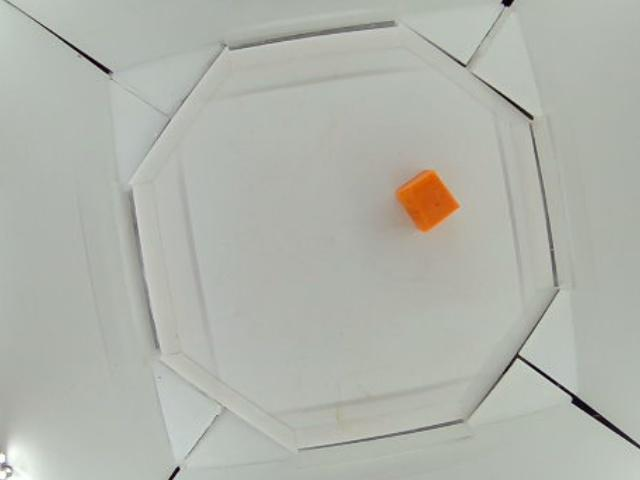Carrot: (398, 167, 460, 232)
